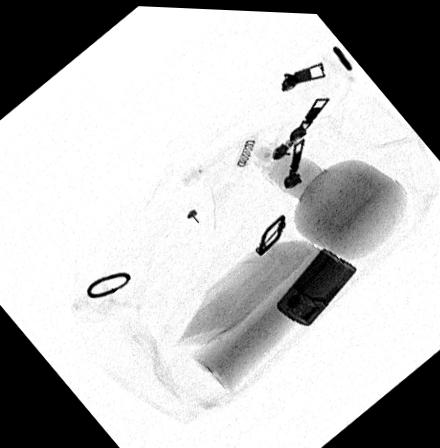Lighter: (275, 244, 355, 324)
